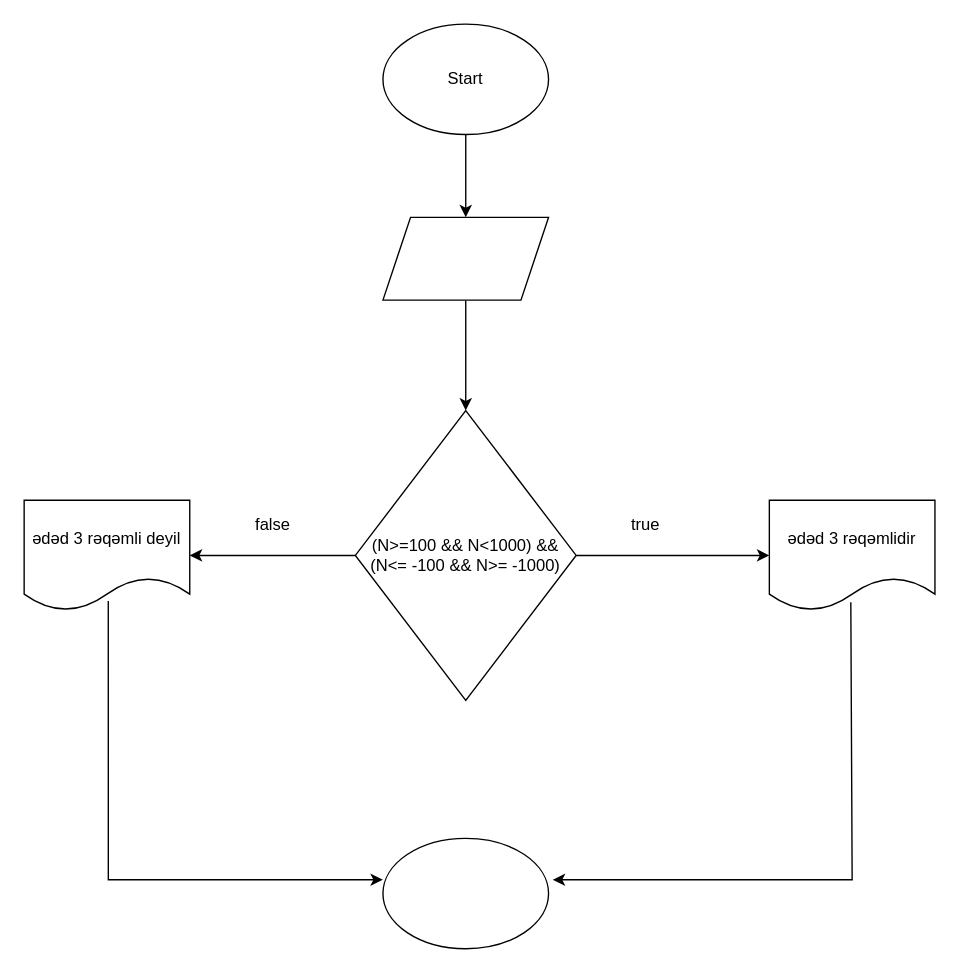
Some shapes in this 959 by 973 pixel diagram are drawn without their labels. Each missing label, with the centre of its shape:
"End" belongs at pixel 465 893.
"let N" belongs at pixel 465 258.
